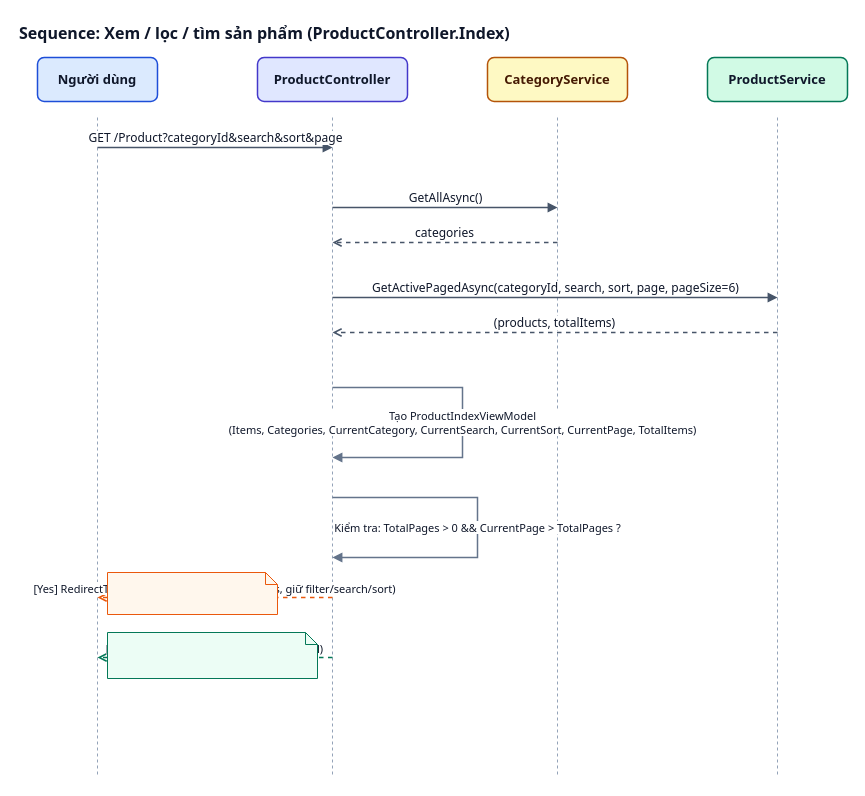
Some shapes in this 865 by 796 pixel diagram are drawn without their labels. Here are the shapes that lost their labels. From the top down, the box of each, then its label:
(106, 572, 278, 614): [Yes] page vượt quá tổng trang
(106, 632, 318, 678): [No] render danh sách theo lọc / tìm / sort / page
